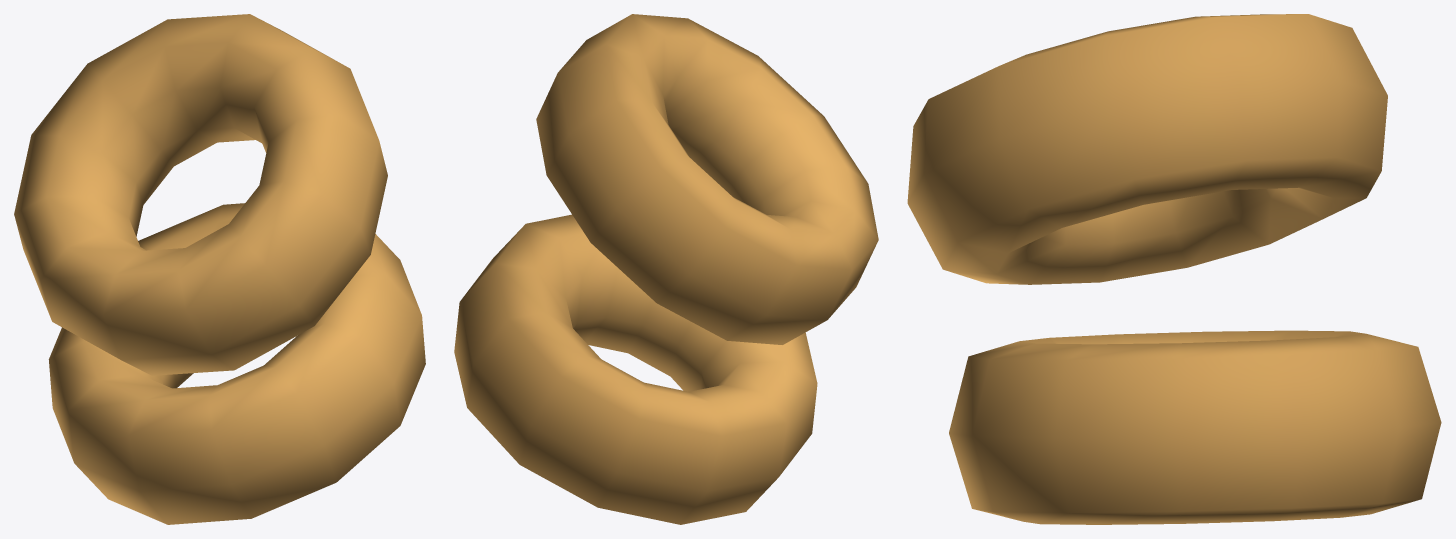
Rendered from Earring_6.fbx.
3 views of the same model, side by side, from view 1: azimuth 30°, elevation 25°; view 2: azimuth 150°, elevation 25°; view 3: azimuth 270°, elevation 25° (orthographic). The views are drawn at different scales.
Parts seen in each view (by area): view 1: Earring_6; view 2: Earring_6; view 3: Earring_6.
Boxes of the visible parts, x1,y1,x2,y2 form: Earring_6: (14,14,425,524); Earring_6: (454,14,878,524); Earring_6: (907,14,1441,524).
Size of the model in its own units: 8.62 by 9.93 by 8.46.
